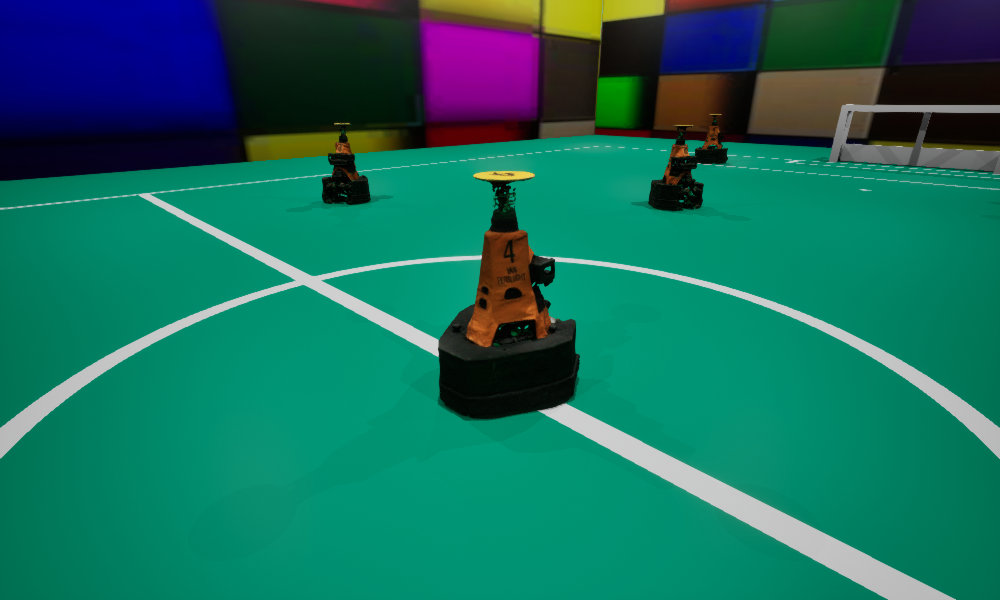o: (438, 171, 579, 418), (648, 125, 703, 210), (322, 123, 370, 203), (695, 114, 727, 163)
